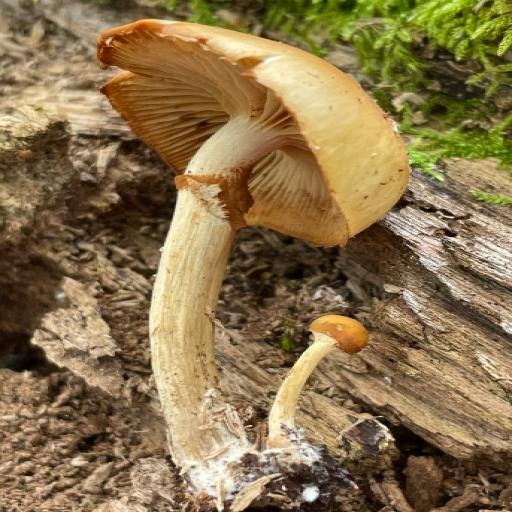mushroom: (73, 0, 457, 435)
